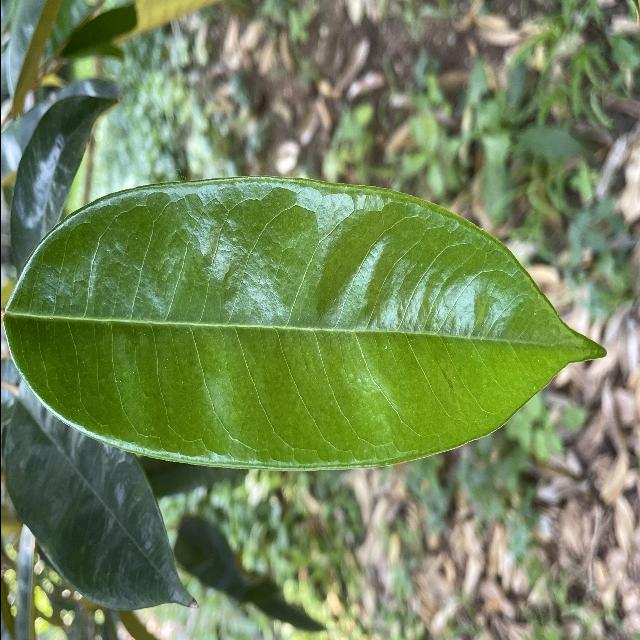No Disease: (0, 166, 616, 485)
